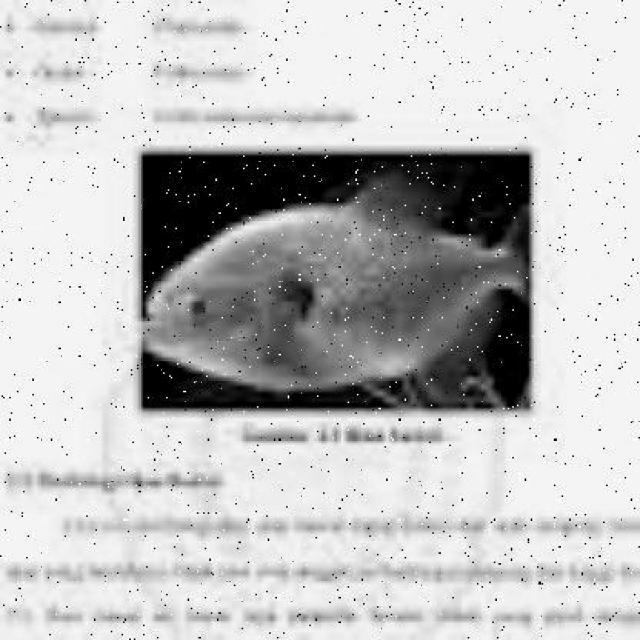ikan-pacu: (147, 185, 524, 393)
